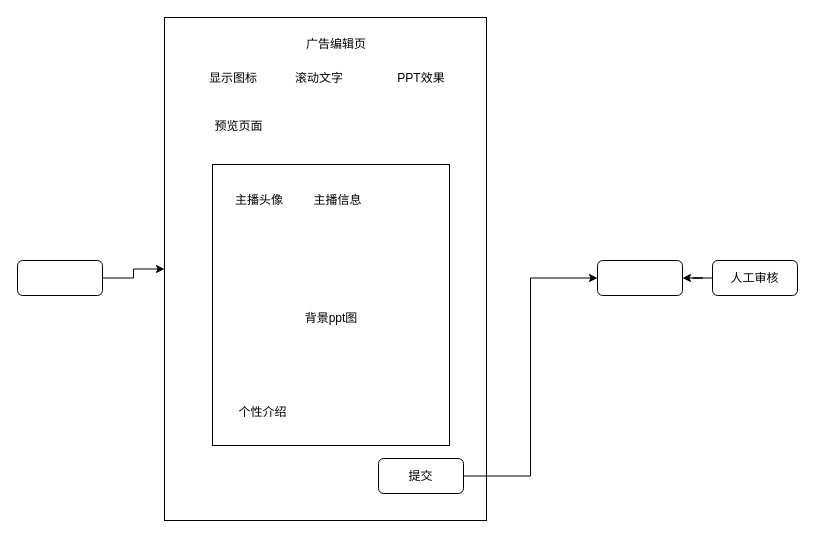
This 815x538 diagram has some shape labels left out. The centre of each missing label's shape, as x and y in pixels:
助推编辑页: point 59,278
服务器: point 639,278
